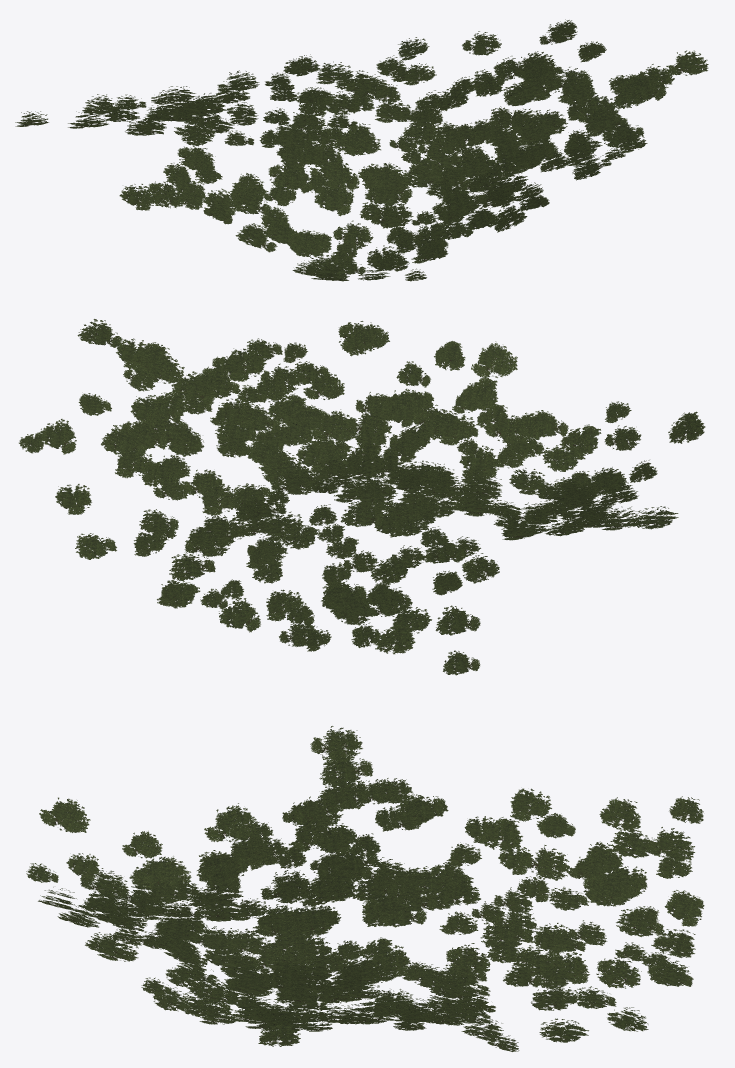
Rendered from Trees.fbx.
3 renders of one model, top to bottom at view 1: azimuth 30°, elevation 25°; view 2: azimuth 150°, elevation 25°; view 3: azimuth 270°, elevation 25°, orthographic. The views are drawn at different scales.
Parts seen in each view (by area): view 1: Plane.163, Plane.271, Plane.071, Plane.034, Plane.182, Plane.310, Plane.024, Plane.332, Plane.241, Plane.224, Plane.223, Plane.178 (+46 smaller); view 2: Plane.103, Plane.340, Plane.256, Plane.133, Plane.002, Plane.038, Plane.221, Plane.287, Plane.135, Plane.204, Plane.370, Plane.076 (+46 smaller); view 3: Plane.224, Plane.034, Plane.223, Plane.057, Plane.178, Plane.287, Plane.233, Plane.027, Plane.038, Plane.045, Plane.232, Plane.349 (+74 smaller).
Part boxes in pixels (x1=…): Plane.163: x1=314, y1=183, x2=351, y2=216; Plane.271: x1=333, y1=220, x2=373, y2=250; Plane.071: x1=370, y1=201, x2=413, y2=227; Plane.034: x1=148, y1=181, x2=183, y2=208; Plane.182: x1=666, y1=50, x2=708, y2=75; Plane.310: x1=527, y1=71, x2=561, y2=101; Plane.024: x1=268, y1=162, x2=305, y2=190; Plane.332: x1=628, y1=73, x2=666, y2=100; Plane.241: x1=231, y1=189, x2=271, y2=215; Plane.224: x1=235, y1=223, x2=277, y2=252; Plane.223: x1=119, y1=184, x2=154, y2=210; Plane.178: x1=375, y1=98, x2=411, y2=122; Plane.103: x1=471, y1=341, x2=517, y2=377; Plane.340: x1=310, y1=409, x2=357, y2=442; Plane.256: x1=219, y1=597, x2=260, y2=632; Plane.133: x1=338, y1=321, x2=377, y2=356; Plane.002: x1=228, y1=348, x2=266, y2=381; Plane.038: x1=375, y1=622, x2=415, y2=654; Plane.221: x1=435, y1=605, x2=480, y2=635; Plane.287: x1=169, y1=552, x2=215, y2=580; Plane.135: x1=40, y1=419, x2=76, y2=454; Plane.204: x1=559, y1=424, x2=601, y2=455; Plane.370: x1=201, y1=483, x2=240, y2=515; Plane.076: x1=485, y1=413, x2=530, y2=445; Plane.224: x1=204, y1=803, x2=257, y2=842; Plane.034: x1=319, y1=753, x2=373, y2=787; Plane.223: x1=310, y1=726, x2=362, y2=761; Plane.057: x1=39, y1=797, x2=90, y2=832; Plane.178: x1=445, y1=943, x2=490, y2=977; Plane.287: x1=596, y1=956, x2=641, y2=988; Plane.233: x1=521, y1=845, x2=570, y2=880; Plane.027: x1=479, y1=817, x2=522, y2=850; Plane.038: x1=643, y1=827, x2=694, y2=859; Plane.045: x1=396, y1=793, x2=448, y2=825; Plane.232: x1=510, y1=788, x2=551, y2=821; Plane.349: x1=480, y1=919, x2=533, y2=949.
Bounding box in the file's own units: 504 × 74.58 × 430.
